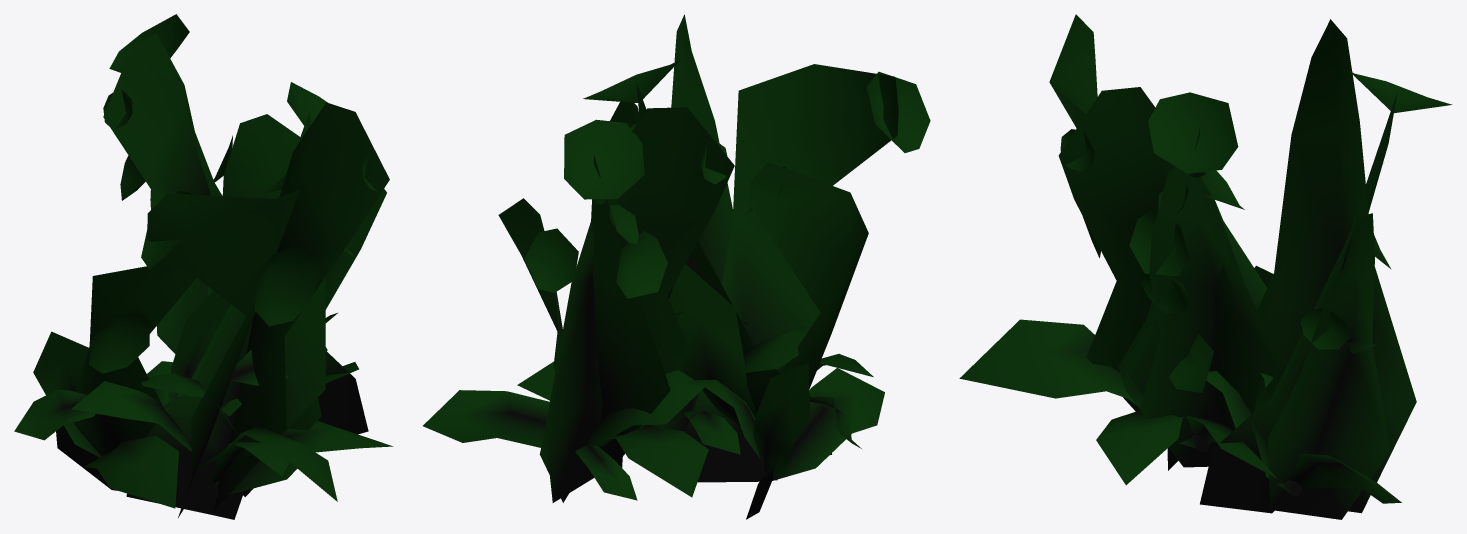
The model's file is FlowersDlionGCATA_E.fbx.
The picture shows the model from 3 angles, left to right: view 1: azimuth 30°, elevation 25°; view 2: azimuth 150°, elevation 25°; view 3: azimuth 270°, elevation 25°; orthographic projection. The views are drawn at different scales.
Visible parts, largest first — view 1: FDGCATAE_LOD0; view 2: FDGCATAE_LOD0; view 3: FDGCATAE_LOD0.
Part boxes in pixels (bbox=[...]): FDGCATAE_LOD0: bbox=[14, 14, 393, 519]; FDGCATAE_LOD0: bbox=[423, 14, 930, 519]; FDGCATAE_LOD0: bbox=[959, 14, 1452, 519].
Size of what is drawn, in the model's own units: 0.5096 by 0.5453 by 0.5517.
